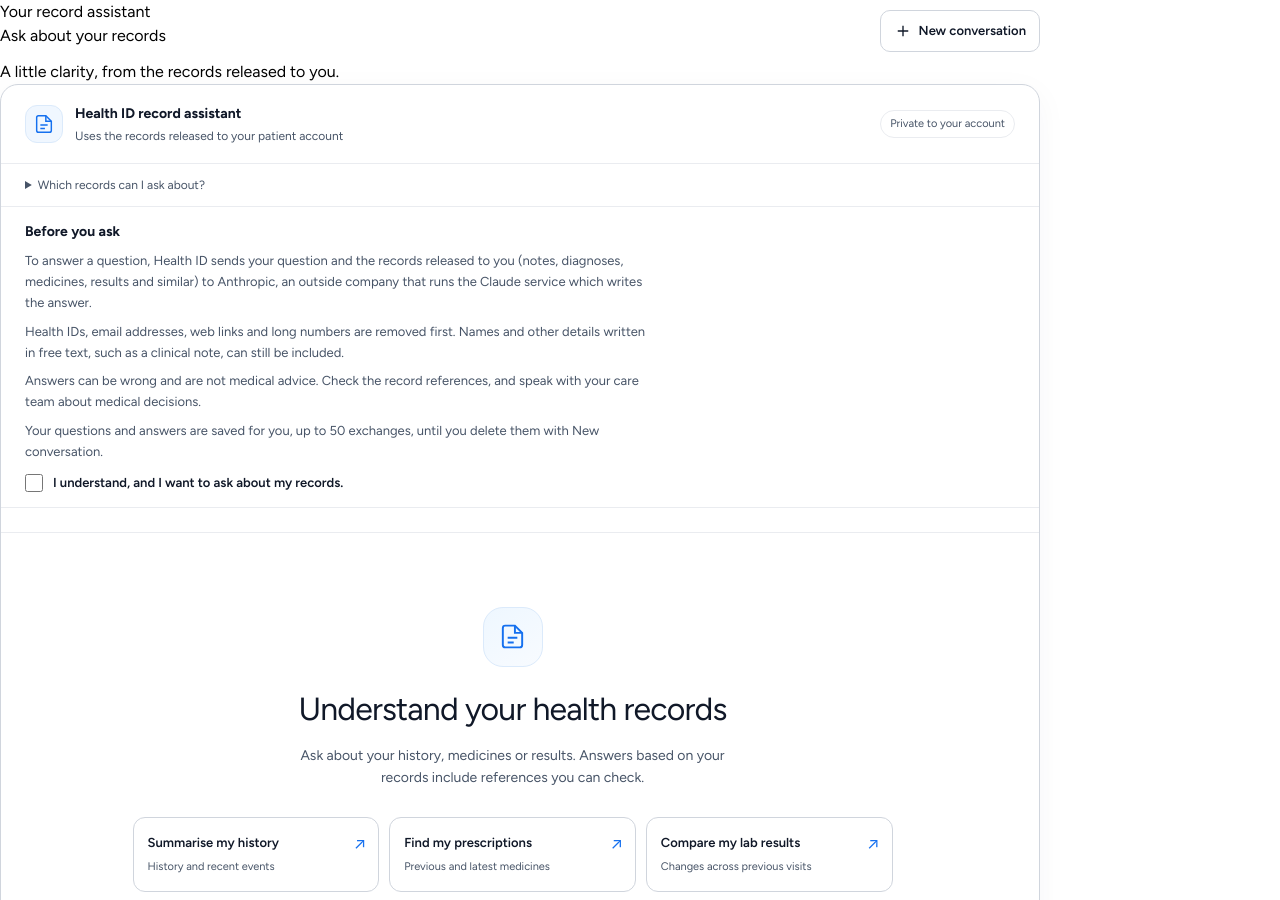
Test case: shows the fixed no_evidence text and cites nothing
This screenshot has width=1280, height=900.
Expected: the heading "Before you ask" is shown, [25,223,120,240]
Click the checkbox labelled "I understand, and I want to ask about my records." at (34, 483), box [25,474,43,492]
(page scrolled)
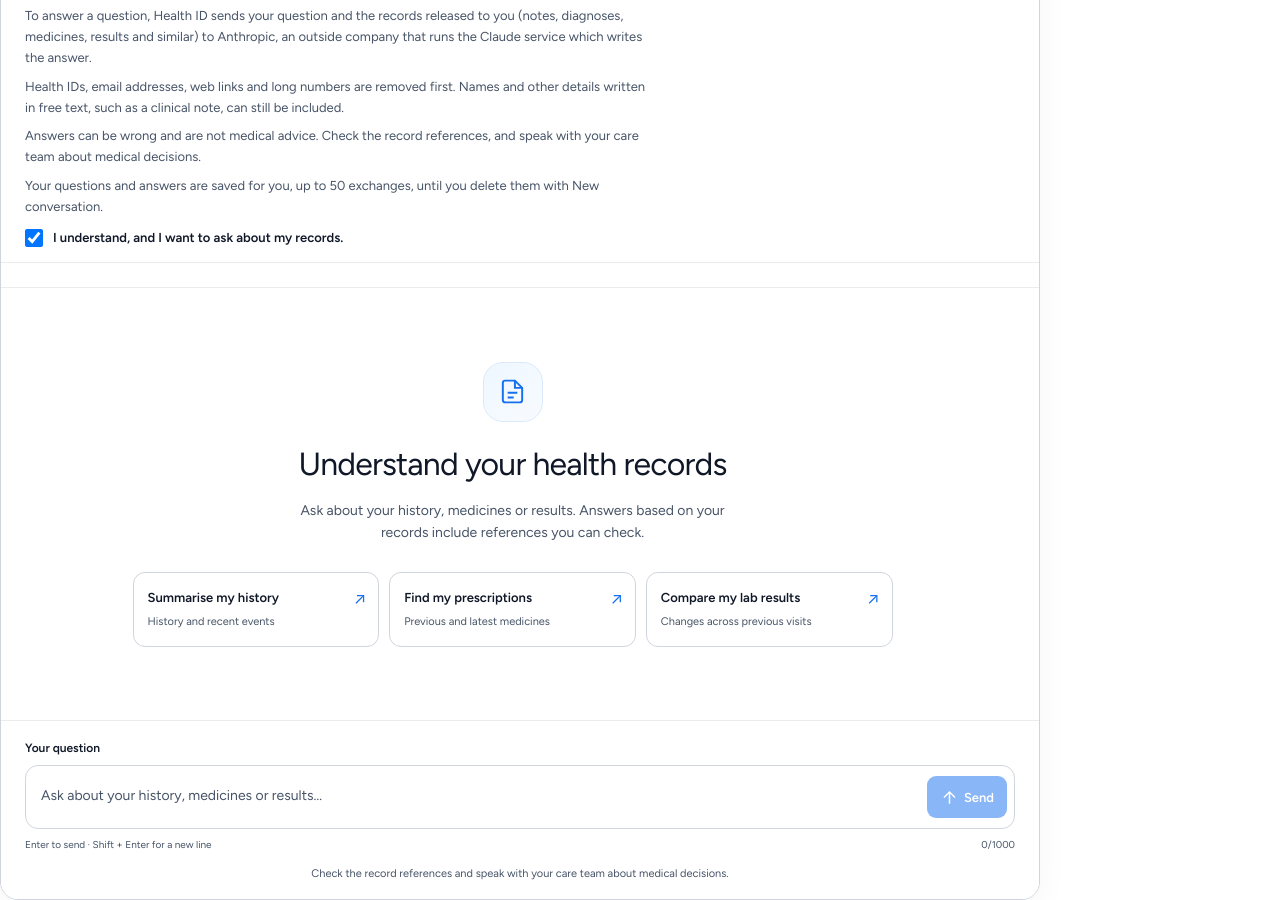
Type "Question" into the text box labelled "Your question" at (475, 797), box [33,773,917,821]
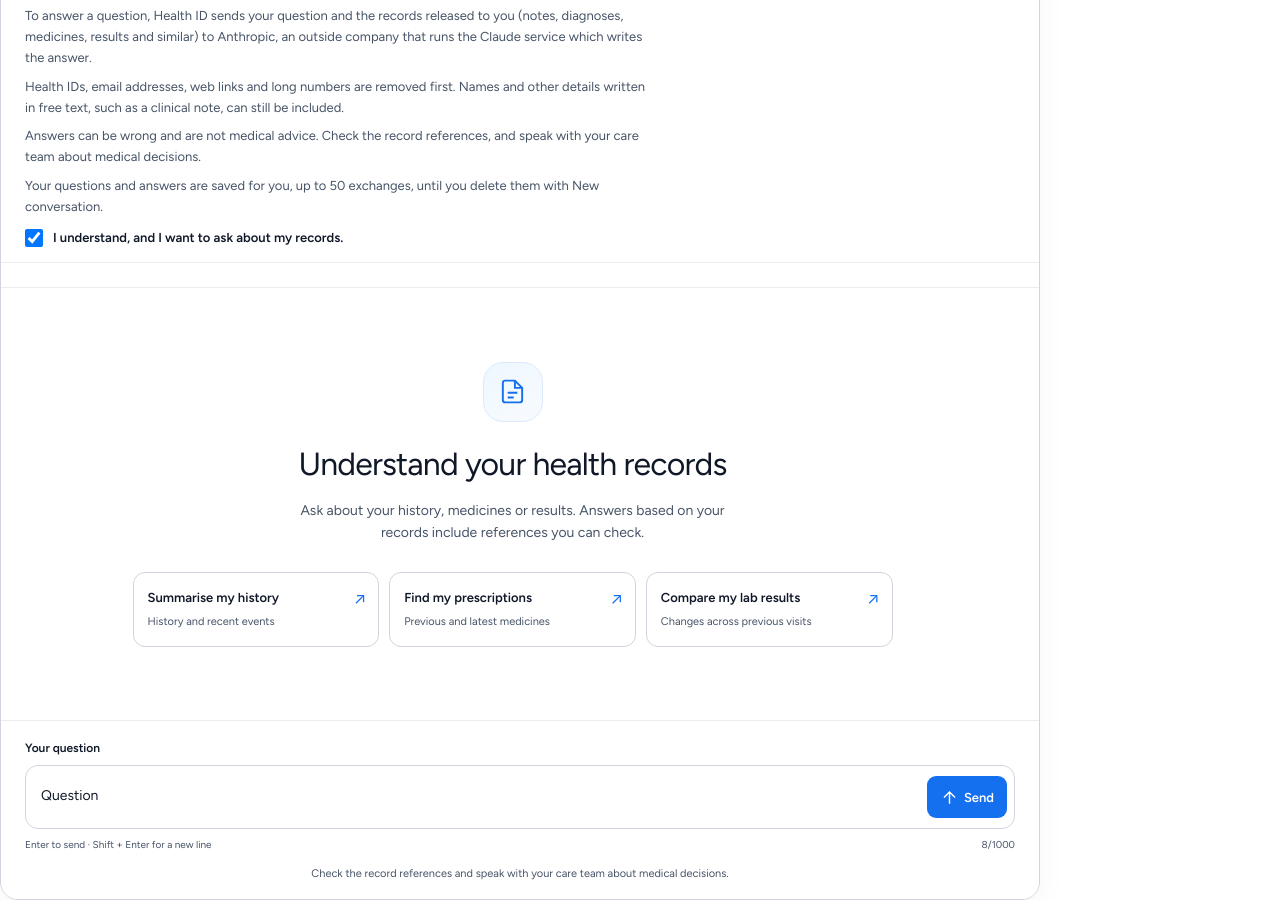
Click the button with aria-label "Send question" at (967, 797), box [927,776,1007,818]
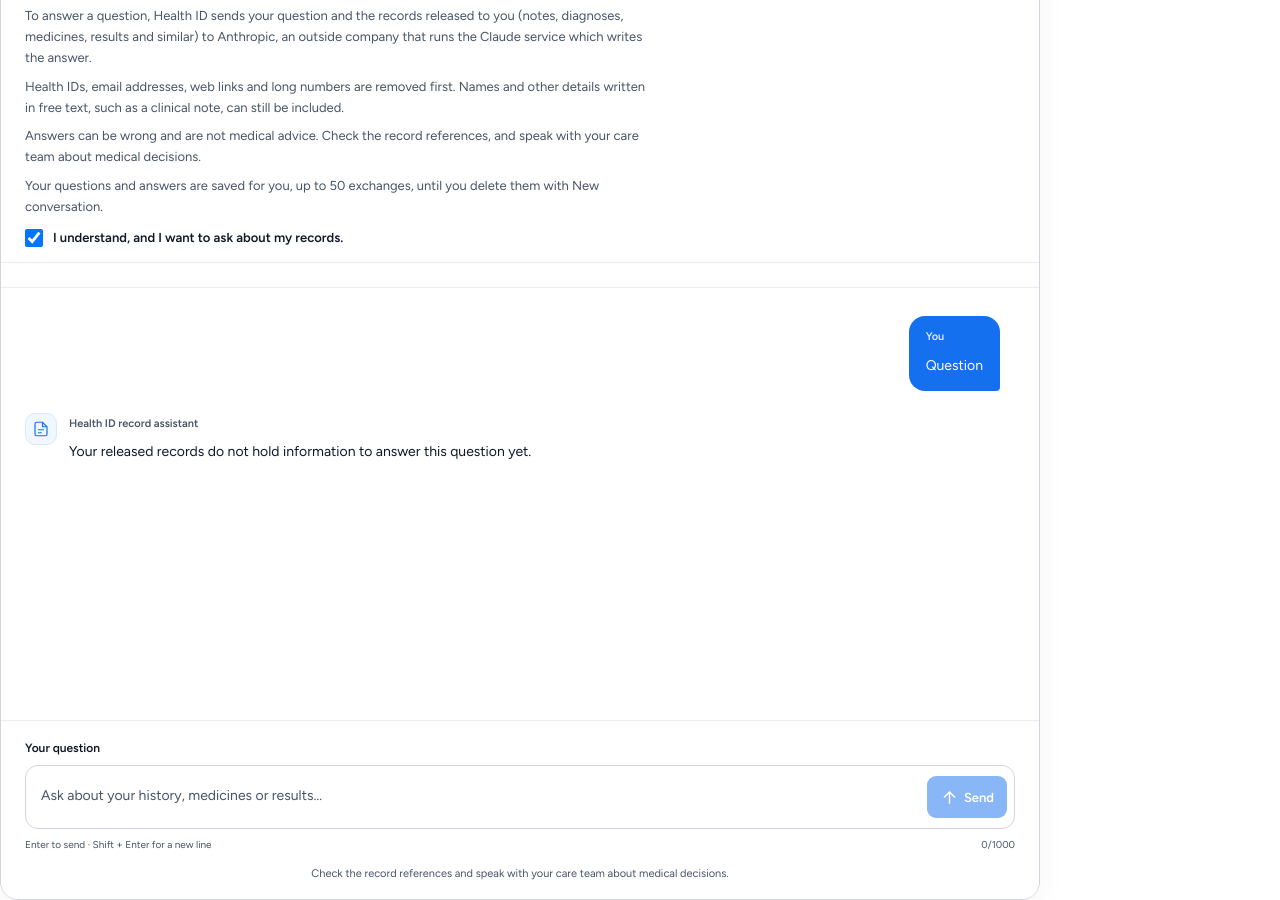
Expected: the text "Your released records do not hold information to answer this question yet." is shown, [69,440,531,464]
